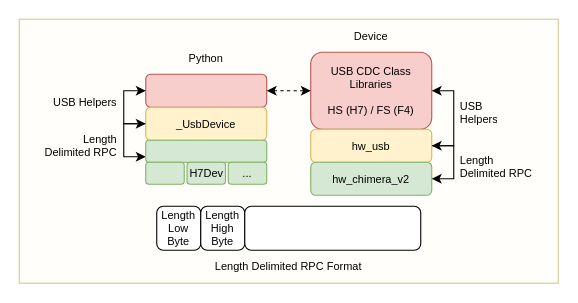
This 578x303 diagram has some shape labels left out. Each missing label, with the box of its shape:
_Board: (145, 139, 267, 162)
Content: (244, 205, 421, 250)
F4Dev: (145, 161, 184, 184)
pyusb: (145, 73, 267, 107)
